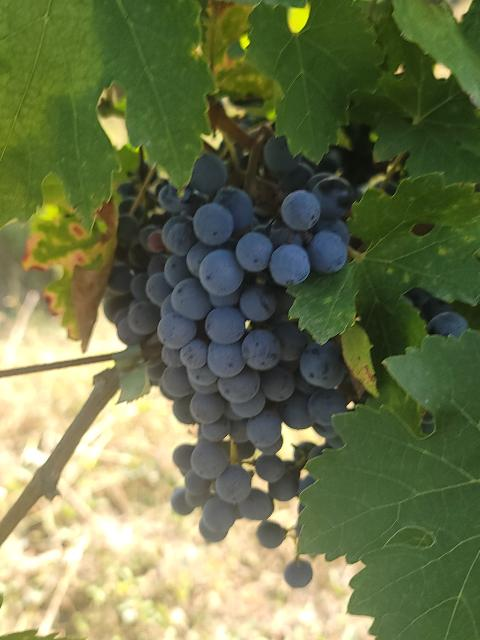grapes: (126, 136, 358, 545)
